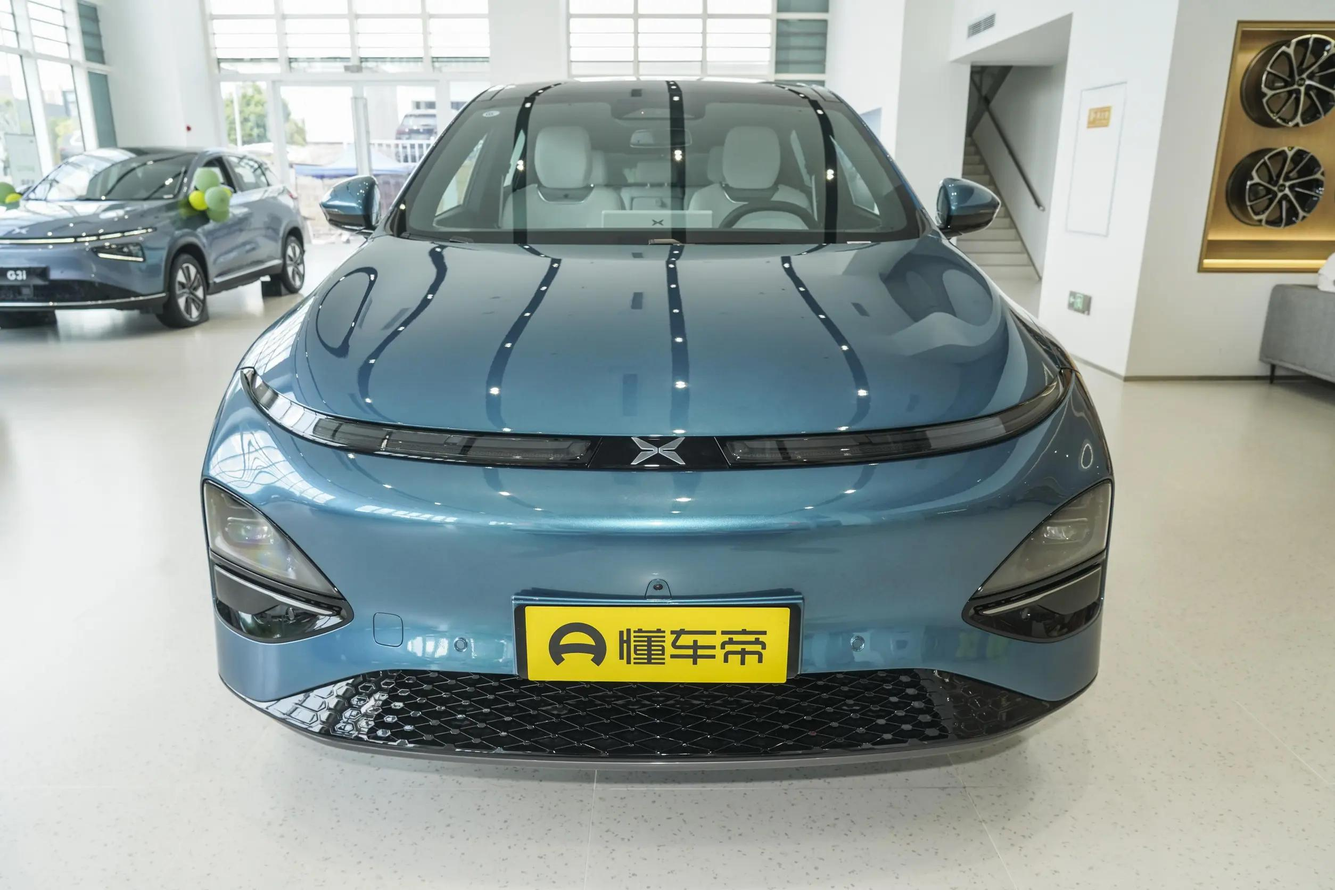XPeng Motors: (630, 437, 685, 464), (12, 226, 30, 234)
